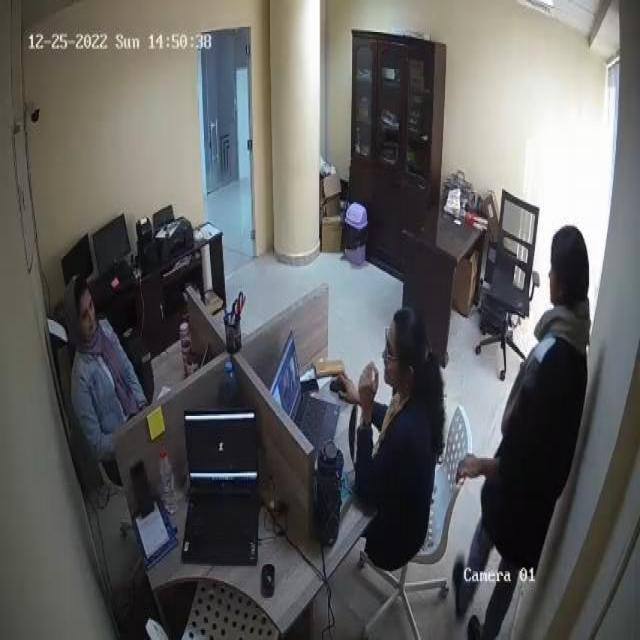bare_hand: (455, 443, 500, 495), (329, 359, 366, 411), (357, 364, 385, 428)
